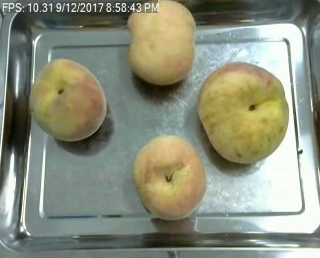Peach: (197, 62, 288, 164), (27, 58, 107, 142), (131, 135, 207, 218), (126, 0, 198, 86)
